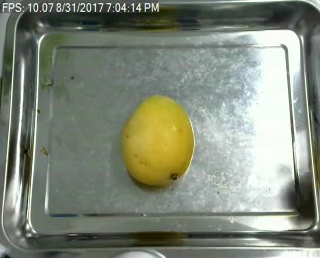Mango: (119, 93, 194, 187)
